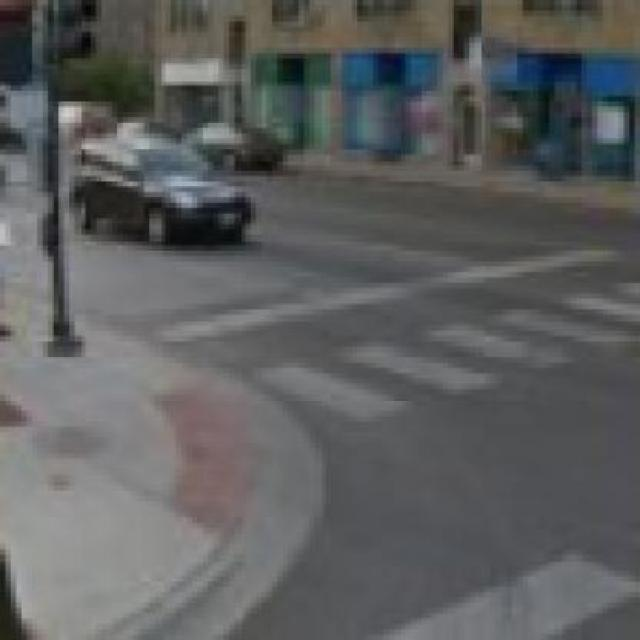crosswalk: (261, 278, 639, 428)
